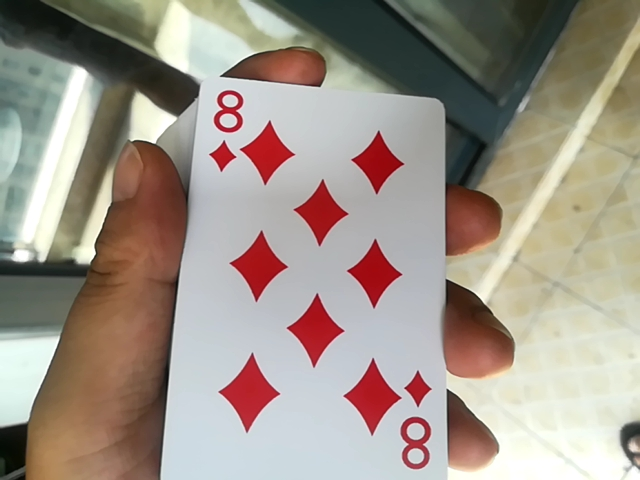fk 8: (156, 65, 453, 470)
